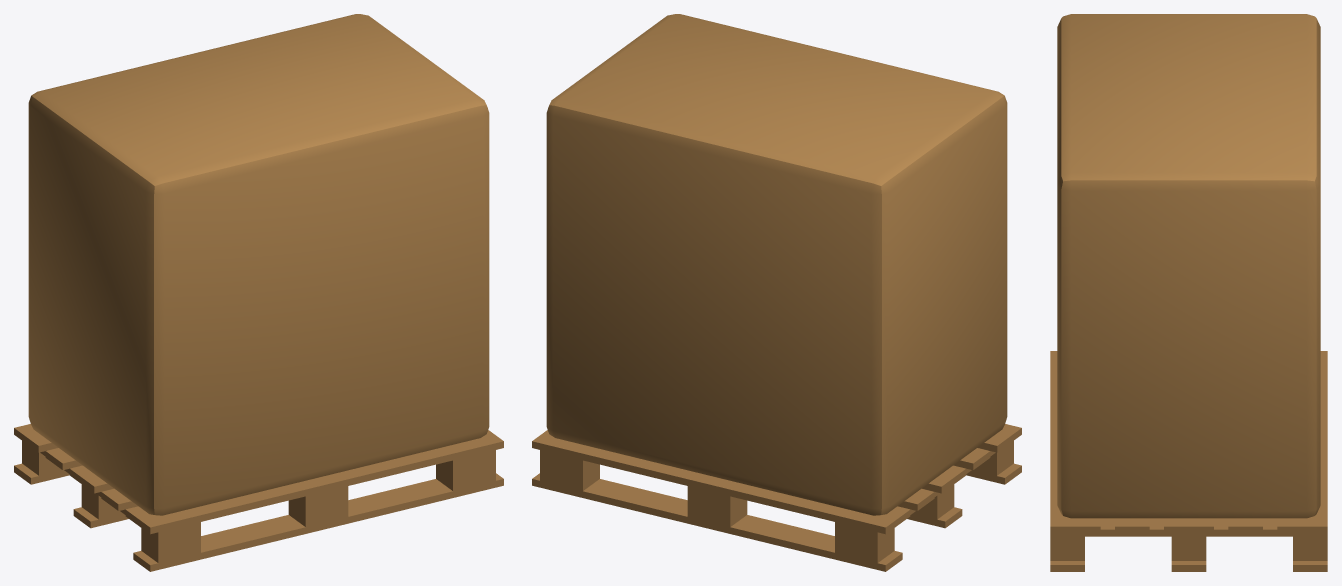
File: pallet.glb
3 renders of one model, left to right at view 1: azimuth 30°, elevation 25°; view 2: azimuth 150°, elevation 25°; view 3: azimuth 270°, elevation 25°, orthographic.
Visible parts, largest first — view 1: body; view 2: body; view 3: body.
Part boxes in pixels (x1=…): body: x1=14, y1=14, x2=503, y2=571; body: x1=532, y1=14, x2=1021, y2=571; body: x1=1050, y1=14, x2=1327, y2=571.
Bounding box in the file's own units: 1.2 × 1.24 × 0.8.
